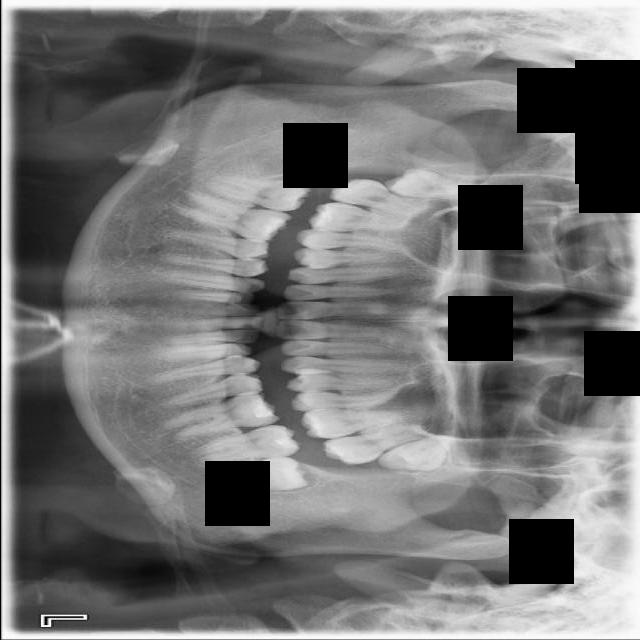3M ESPE Implant: (382, 167, 493, 203)
73: (68, 606, 86, 612)
BioHorizons Implant: (318, 417, 434, 473)
BioLife Implant: (375, 433, 453, 478)
Biomet 3i Implant: (218, 454, 308, 500)
Blue Sky Bio Implant: (191, 423, 300, 465)
Caries: (327, 171, 431, 223)
Implant: (208, 175, 311, 213)
